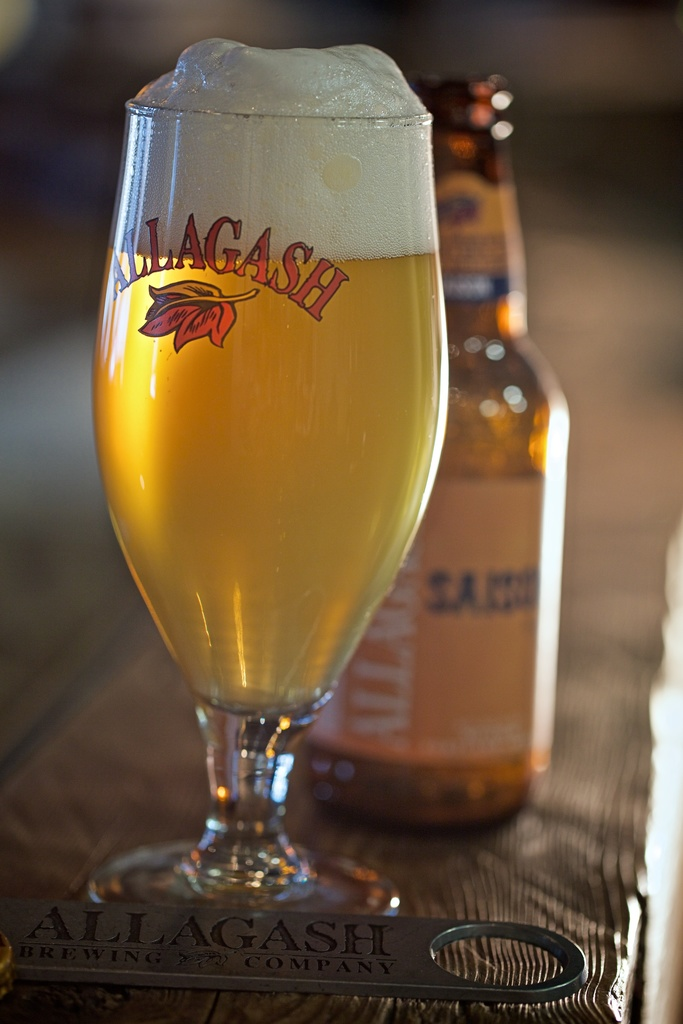Beer: (91, 39, 444, 714)
